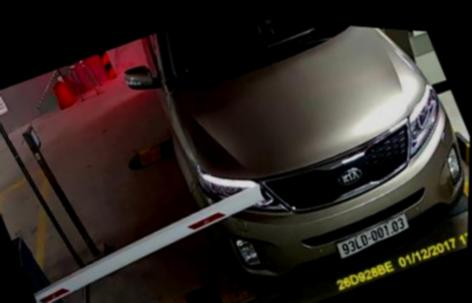License_Plate: (326, 205, 411, 268)
